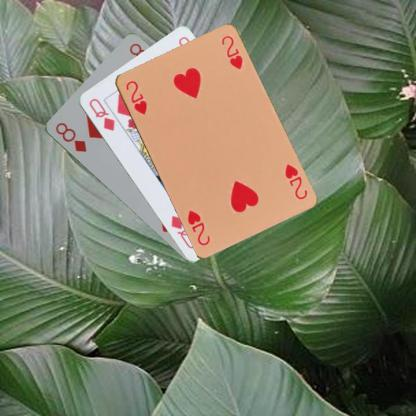2h: (282, 160, 309, 200), (123, 78, 148, 116)
8d: (52, 119, 88, 154)
Qd: (86, 96, 116, 132)
